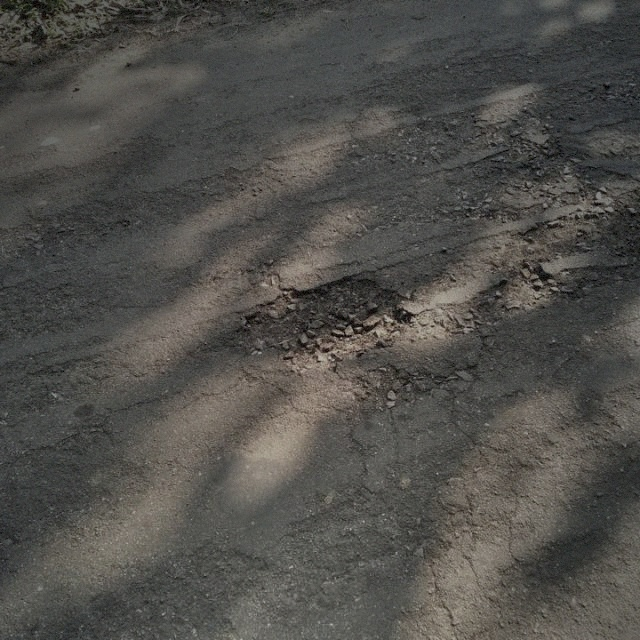pothole: (230, 271, 412, 365)
